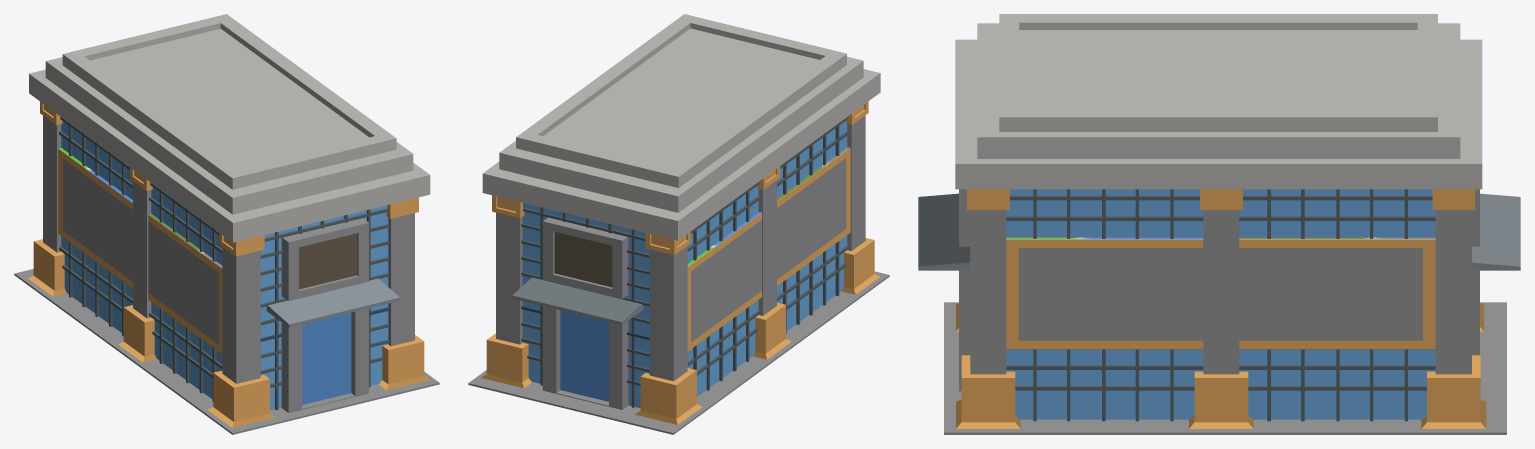
Rendered from putong_xiaoxing11.fbx.
3 views of the same model, side by side, from view 1: azimuth 30°, elevation 25°; view 2: azimuth 150°, elevation 25°; view 3: azimuth 270°, elevation 25° (orthographic). The views are drawn at different scales.
Visible parts, largest first — view 1: putong_xiaoxing11; view 2: putong_xiaoxing11; view 3: putong_xiaoxing11.
Part boxes in pixels (box(x1,y1,x2,y2)): putong_xiaoxing11: box(14, 14, 439, 434); putong_xiaoxing11: box(468, 14, 889, 434); putong_xiaoxing11: box(918, 14, 1520, 434).
Size of the model in its own units: 398 by 776 by 432.
